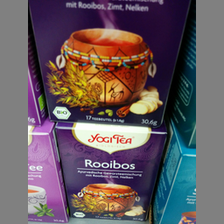tea: (29, 1, 191, 125), (54, 122, 169, 224)
